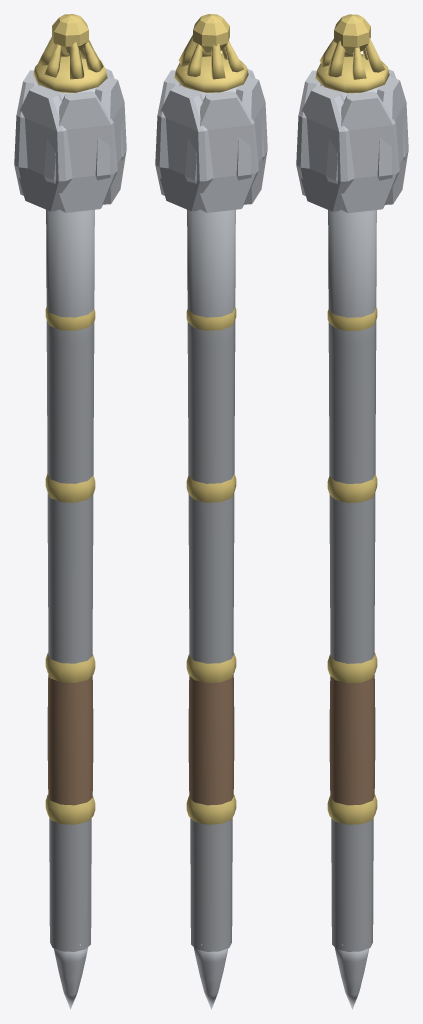
The model's file is wpn_judgement.glb.
The picture shows the model from 3 angles, left to right: view 1: azimuth 30°, elevation 25°; view 2: azimuth 150°, elevation 25°; view 3: azimuth 330°, elevation 25°; orthographic projection.
Parts seen in each view (by area): view 1: wpn_judgement; view 2: wpn_judgement; view 3: wpn_judgement.
Boxes of the visible parts, x1,y1,x2,y2 form: wpn_judgement: (14,14,126,1009); wpn_judgement: (155,14,267,1009); wpn_judgement: (296,14,408,1009).
Size of the model in its own units: 0.1743 by 1.64 by 0.1686.
